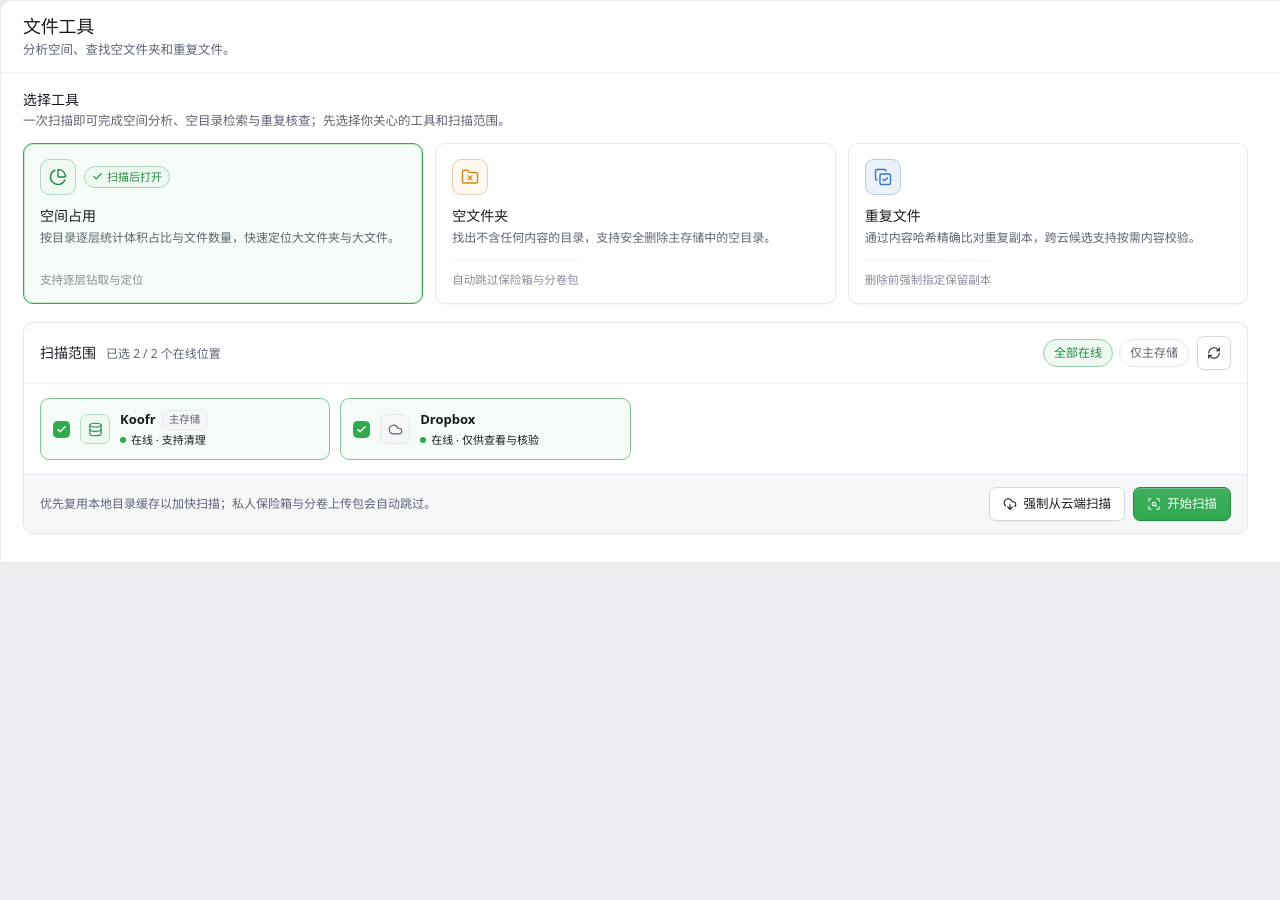
FileToolsWorkspace › shows the read estimate before requesting contents for a selected candidate group
The image size is (1280, 900).
Expected: the checkbox labelled "Dropbox" is shown, [340, 398, 631, 460]
Click the button "开始扫描": (1182,504) [1133, 487, 1231, 521]
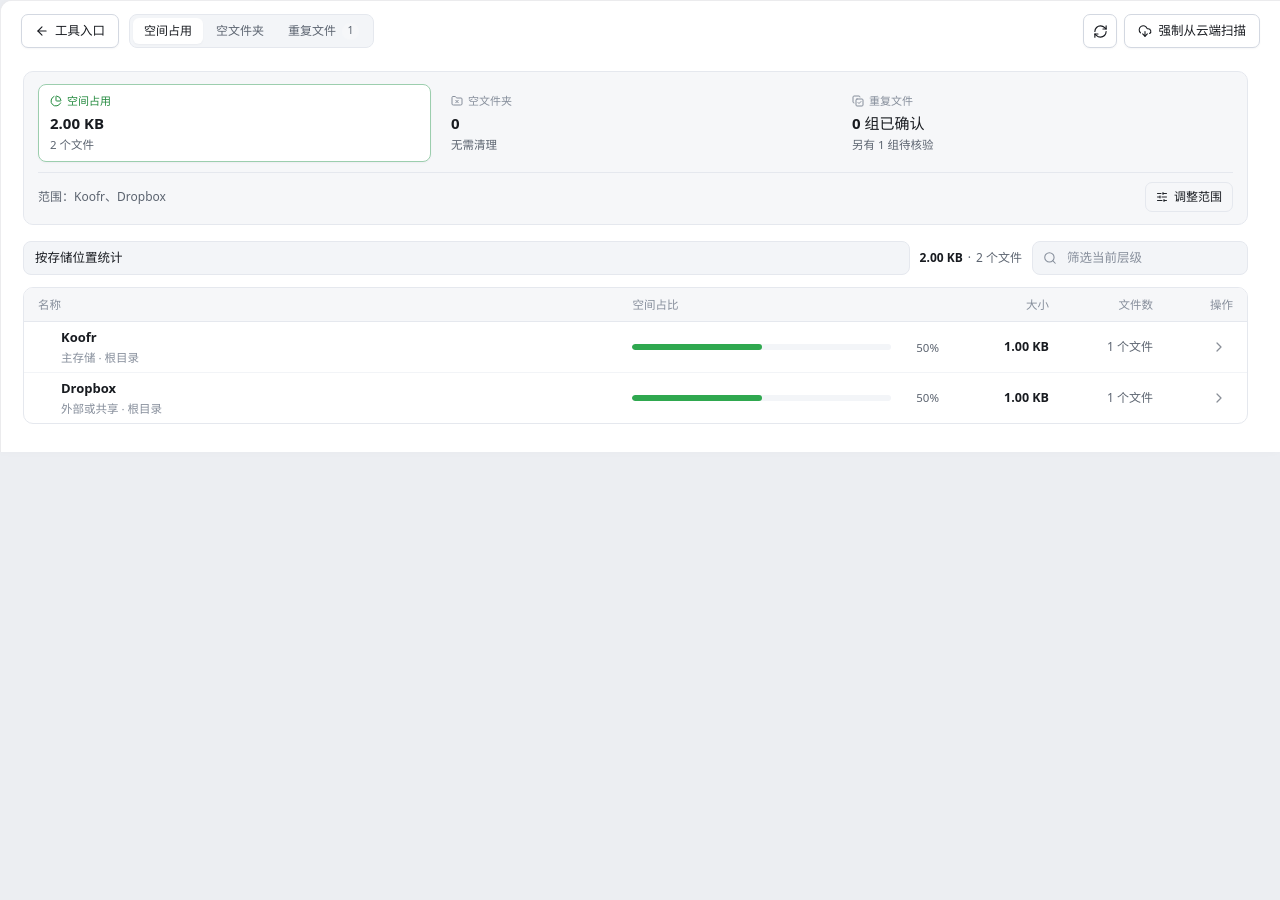
Click the tab "重复文件 1": (324,31) [277, 18, 370, 44]
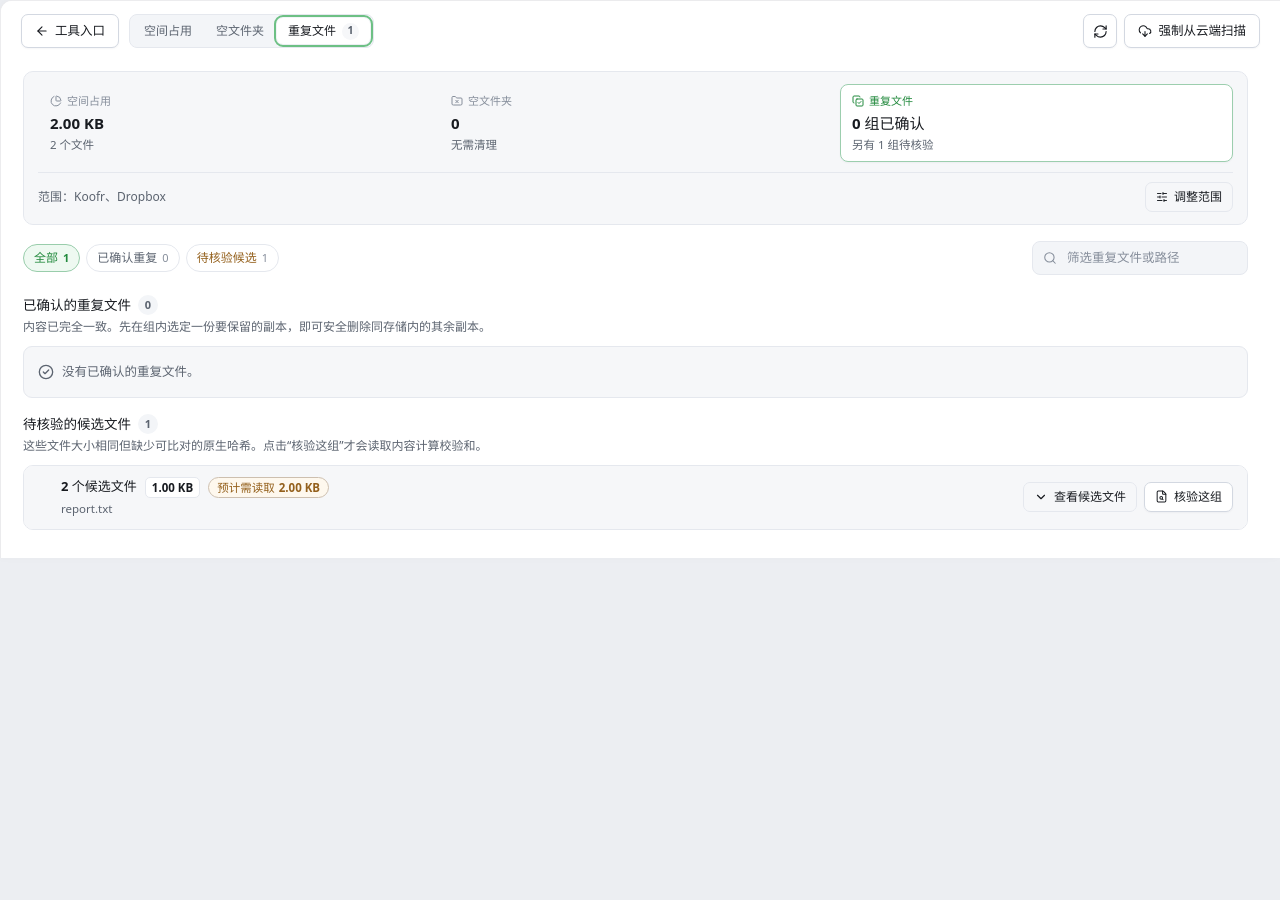
Expected: the text "2.00 KB" next to "预计需读取" is shown, [279, 480, 320, 494]
Expected: the text "预计需读取" is shown, [217, 478, 275, 496]
Click the button "查看候选文件": (1080,497) [1023, 482, 1137, 512]
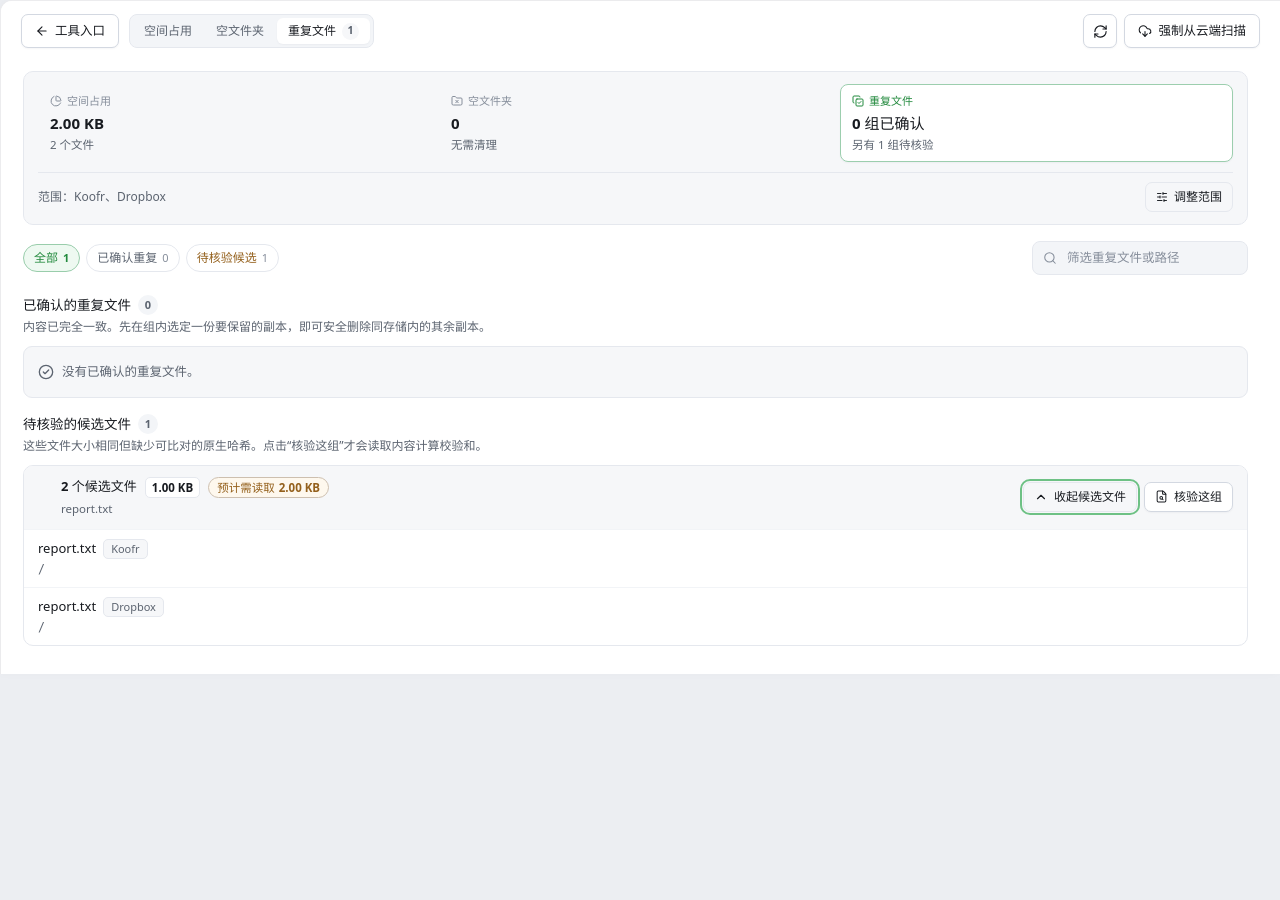
Expected: the text "Koofr" below "个候选文件" is shown, [111, 541, 140, 556]
Expected: the text "Dropbox" is shown, [103, 597, 164, 617]
Click the button "核验这组": (1188,497) [1144, 482, 1233, 512]
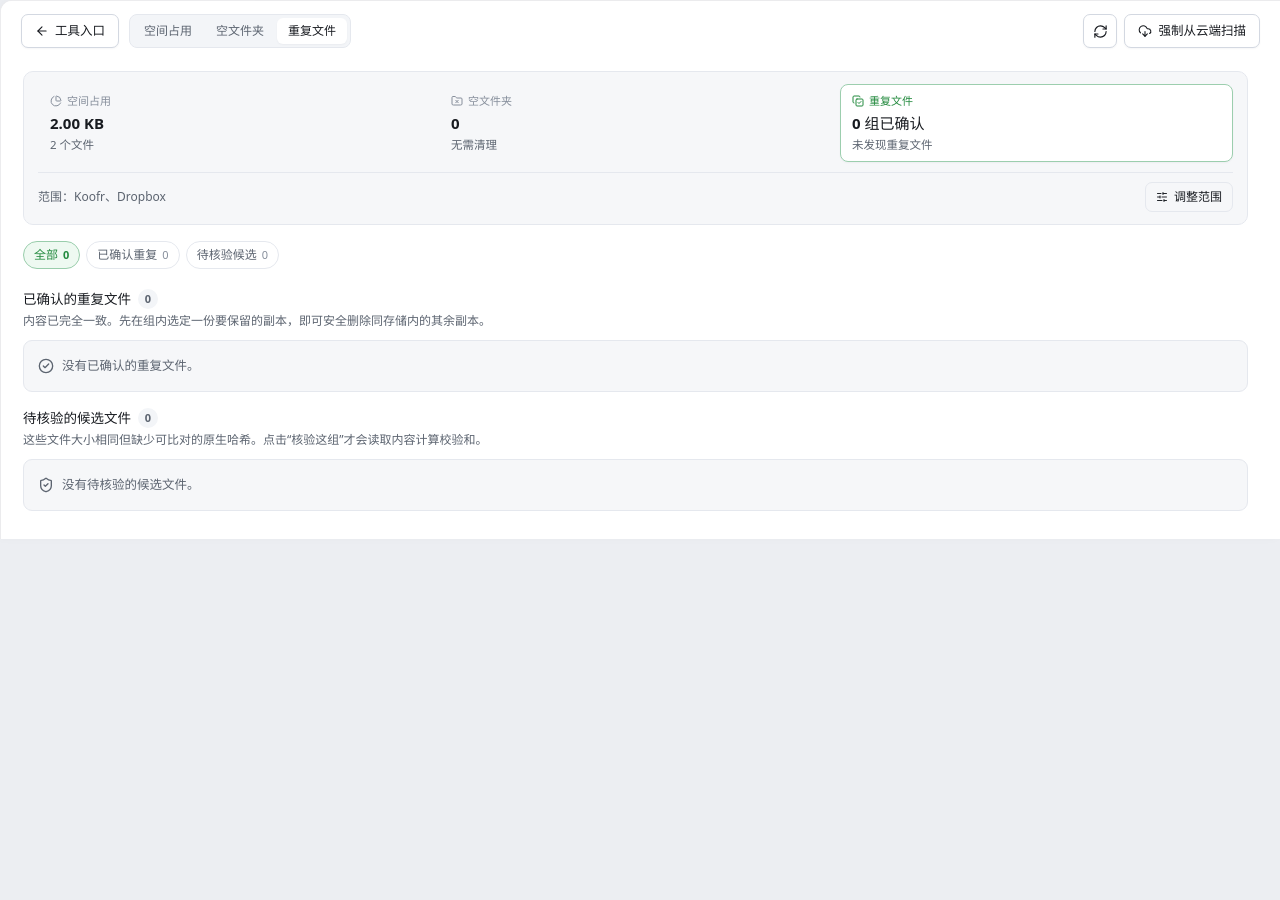
Expected: the text "没有待核验的候选文件。" is shown, [62, 476, 200, 494]
